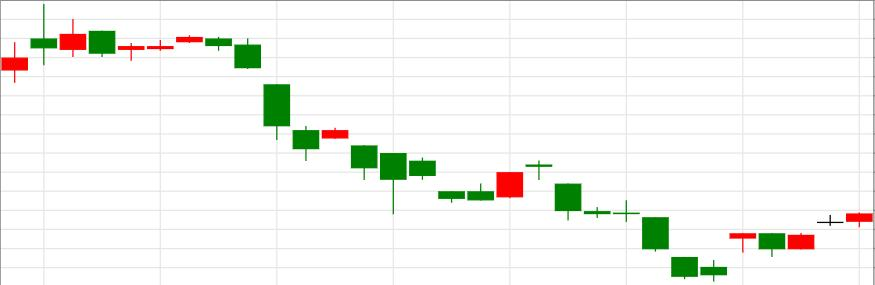hammer_rise: (176, 35, 407, 215)
